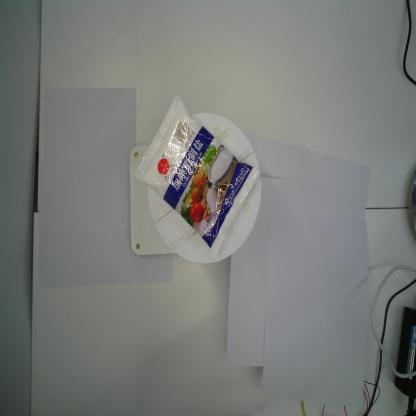Seasoner: (134, 94, 260, 256)
